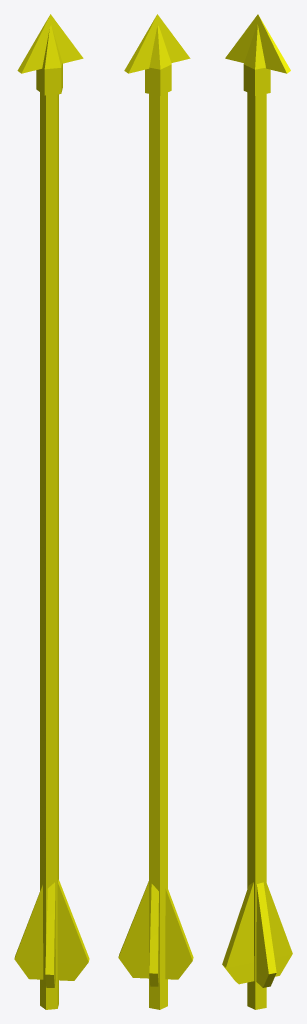
Rendered from _arrow_b_18.glb.
3 views of the same model, side by side, from view 1: azimuth 30°, elevation 25°; view 2: azimuth 210°, elevation 25°; view 3: azimuth 330°, elevation 25° (orthographic).
Visible parts, largest first — view 1: arrow_b_18; view 2: arrow_b_18; view 3: arrow_b_18.
Part boxes in pixels (<box>): arrow_b_18: <box>14,14,89,1009</box>; arrow_b_18: <box>118,14,193,1009</box>; arrow_b_18: <box>222,14,292,1009</box>.
Size of the model in its own units: 0.0372 by 0.5669 by 0.0347.
1 material, 1 textured.
